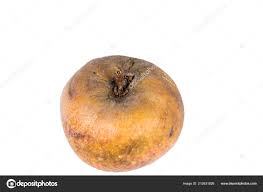damaged_apple: (57, 54, 187, 171)
